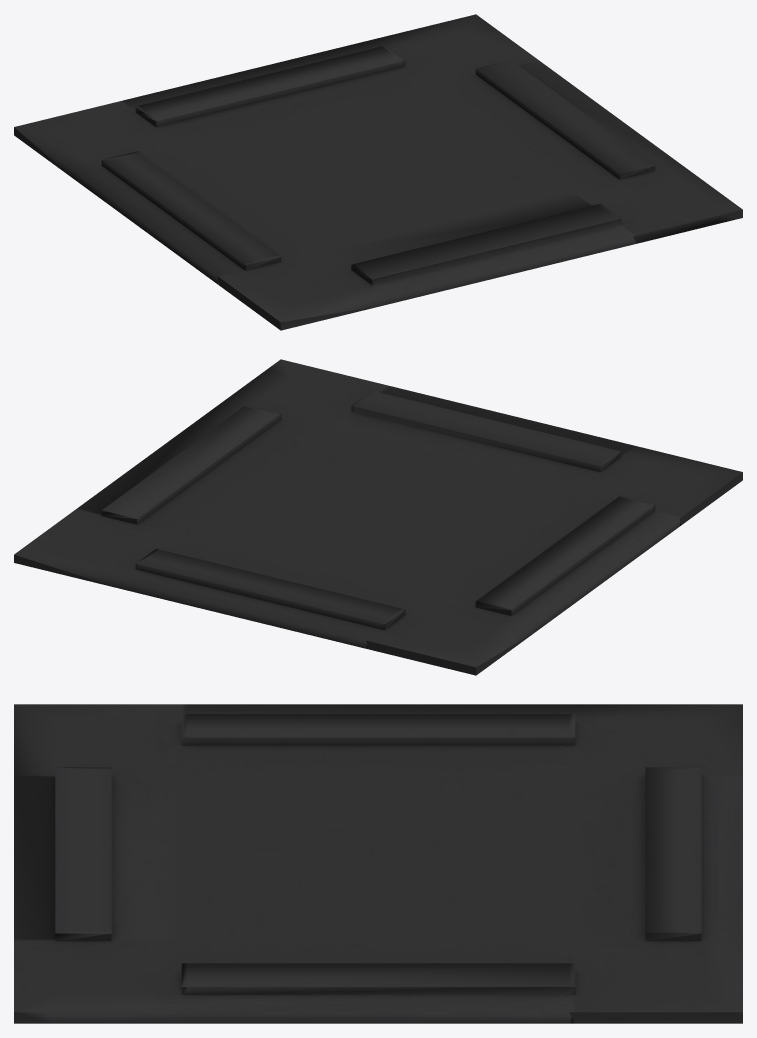
The picture shows the model from 3 angles, top to bottom: view 1: azimuth 30°, elevation 25°; view 2: azimuth 150°, elevation 25°; view 3: azimuth 270°, elevation 25°; orthographic projection. The views are drawn at different scales.
Visible parts, largest first — view 1: Black; view 2: Black; view 3: Black.
Part boxes in pixels (left/top/right/bottom): Black: left=14, top=14, right=742, bottom=330; Black: left=14, top=359, right=742, bottom=675; Black: left=14, top=704, right=742, bottom=1023.
Size of the model in its own units: 0.95 by 0.0628 by 0.95.
1 material, 1 textured.
